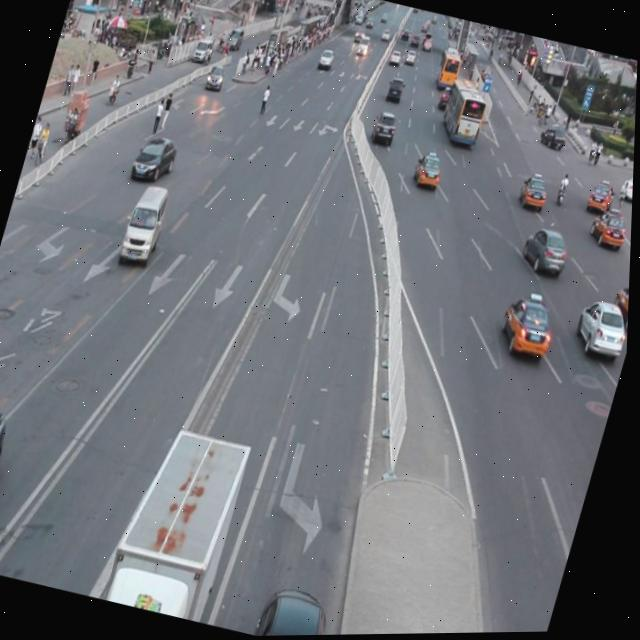bus: (106, 420, 257, 625)
car: (258, 581, 341, 637), (498, 292, 561, 360), (569, 295, 631, 359), (519, 223, 574, 279), (0, 396, 17, 567), (130, 131, 182, 185), (586, 206, 630, 251), (608, 277, 632, 330)
truck: (120, 182, 174, 266)
